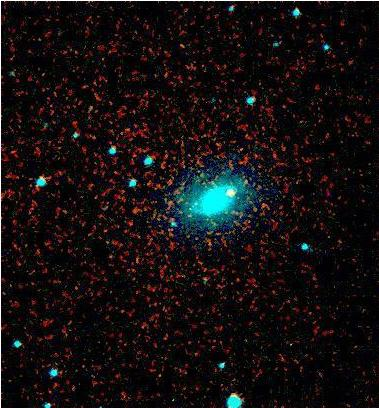star: (214, 176, 244, 206)
